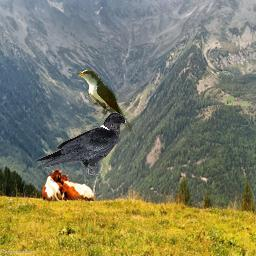Crow: (33, 112, 128, 180)
Cuckoo: (77, 68, 135, 134)
